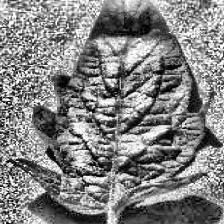spider mites: (11, 0, 208, 211)
